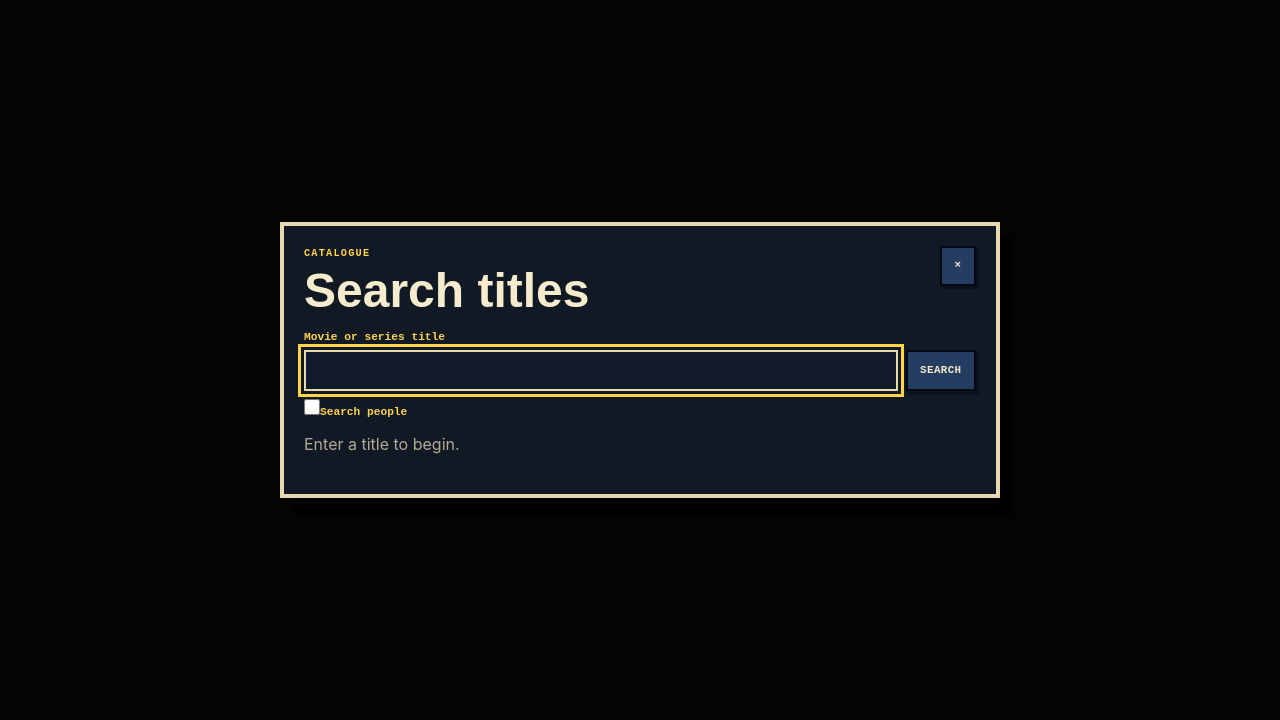
Test: title search › shows empty and error states
Type "none" into the search field at (601,370), box [304,350,898,391]
Then press Enter
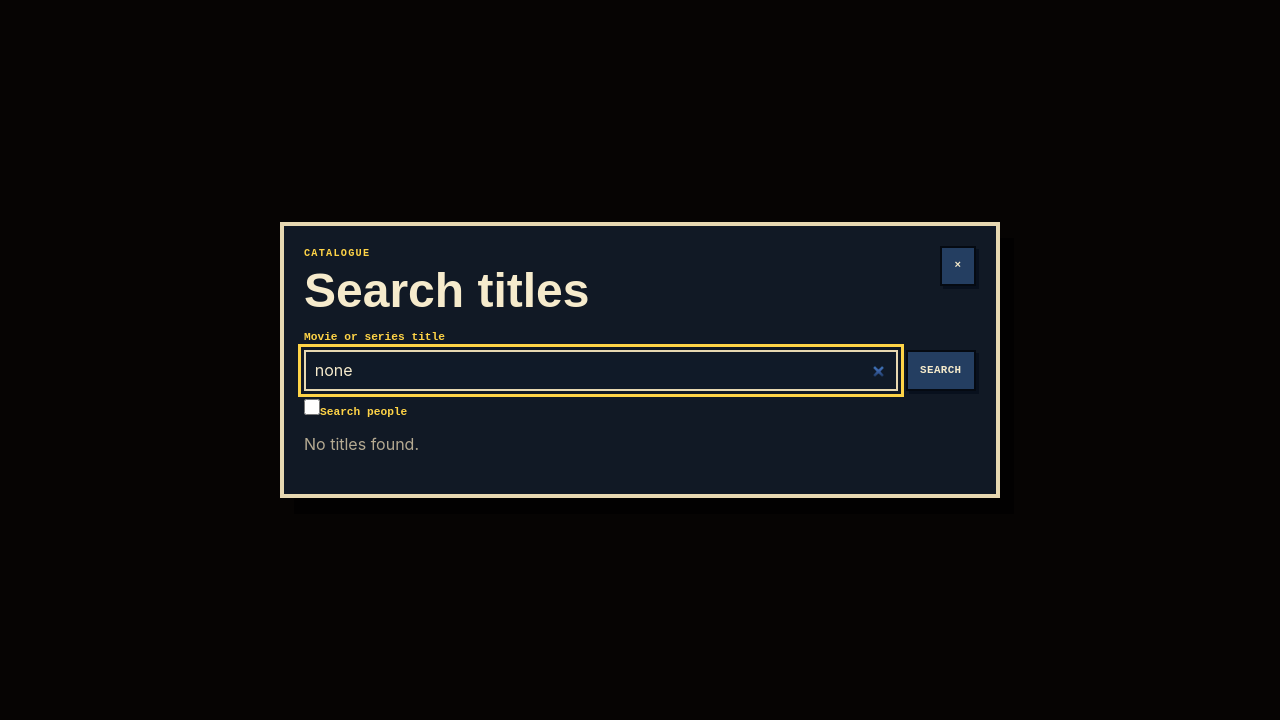
Now the text "No titles found." is shown, box [304,434,419,454]
Replace the text in the search field with "again" at (601,370), box [304,350,898,391]
Then press Enter
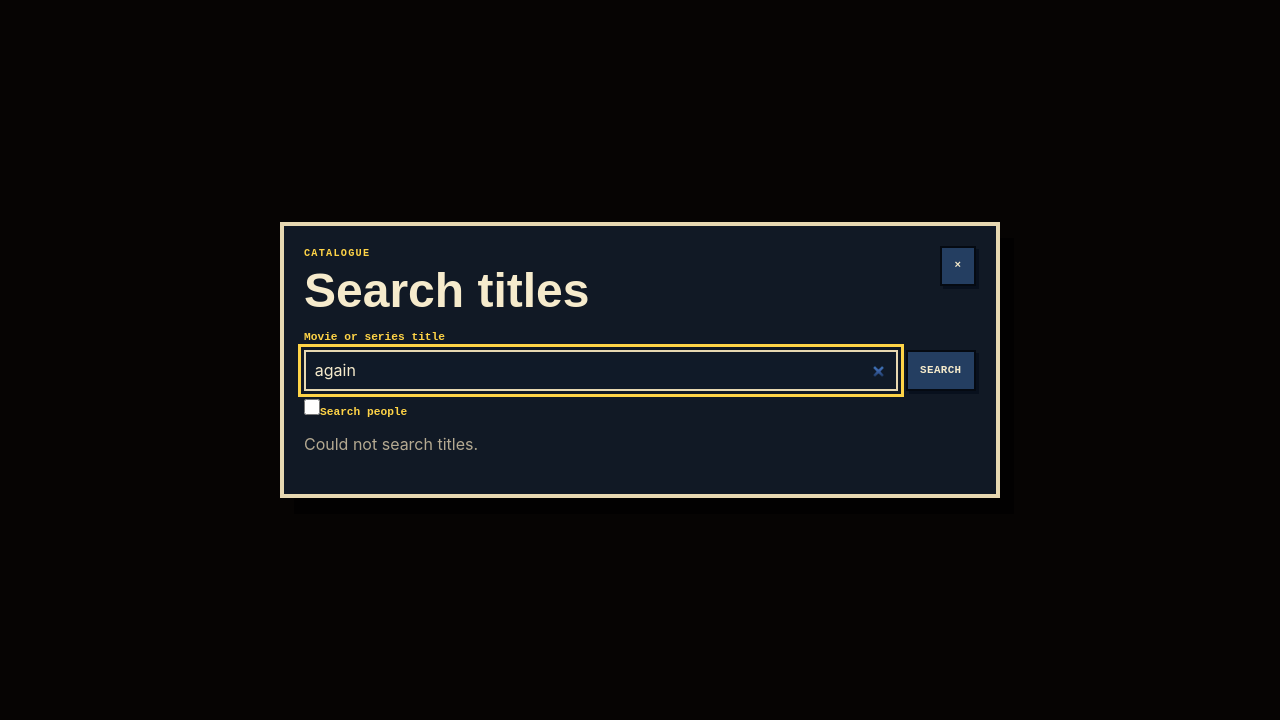
Now the message reads "Could not search titles.", box [304,434,478,454]
